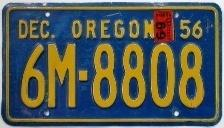0: (148, 41, 176, 109)
6: (18, 42, 48, 110)
8: (176, 42, 209, 110), (119, 41, 148, 109), (90, 42, 119, 109)
M: (45, 41, 78, 110)
